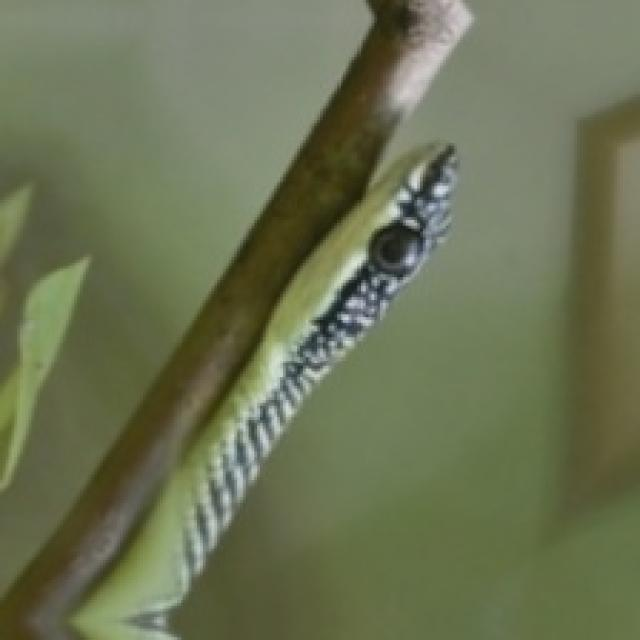paradise tree snake: (66, 143, 454, 637), (69, 143, 454, 637)
